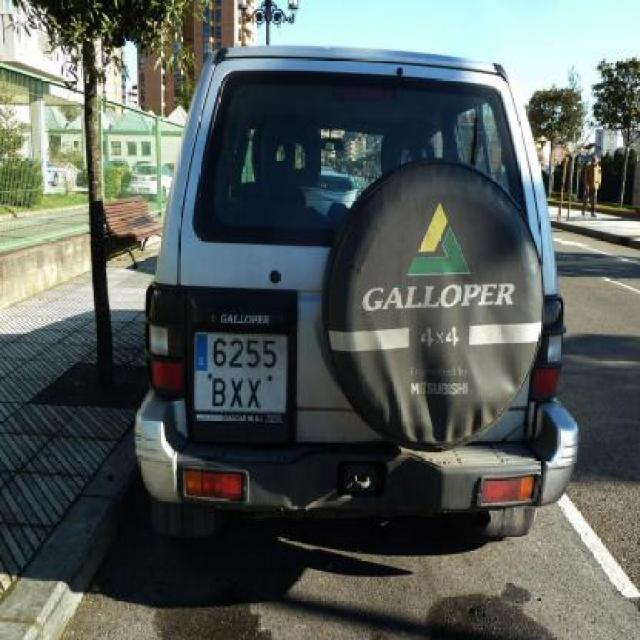License-Plates: (194, 332, 288, 426)
